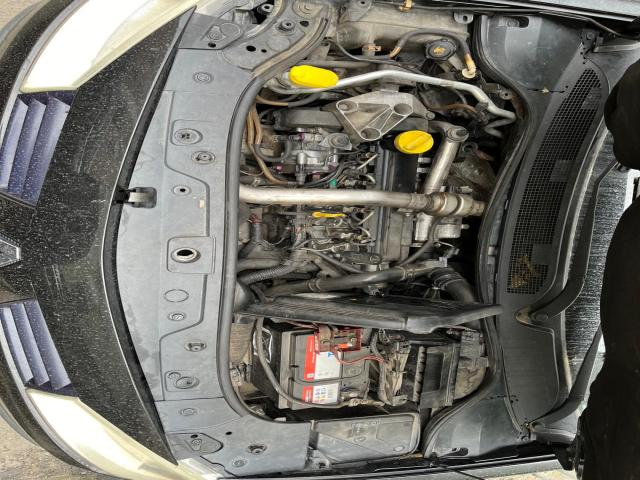accumulator: (250, 319, 383, 410)
antifreeze_tank: (333, 0, 473, 58), (400, 33, 458, 60)
fuse_box: (310, 412, 420, 463)
high_pressure_pump: (273, 133, 340, 183)
